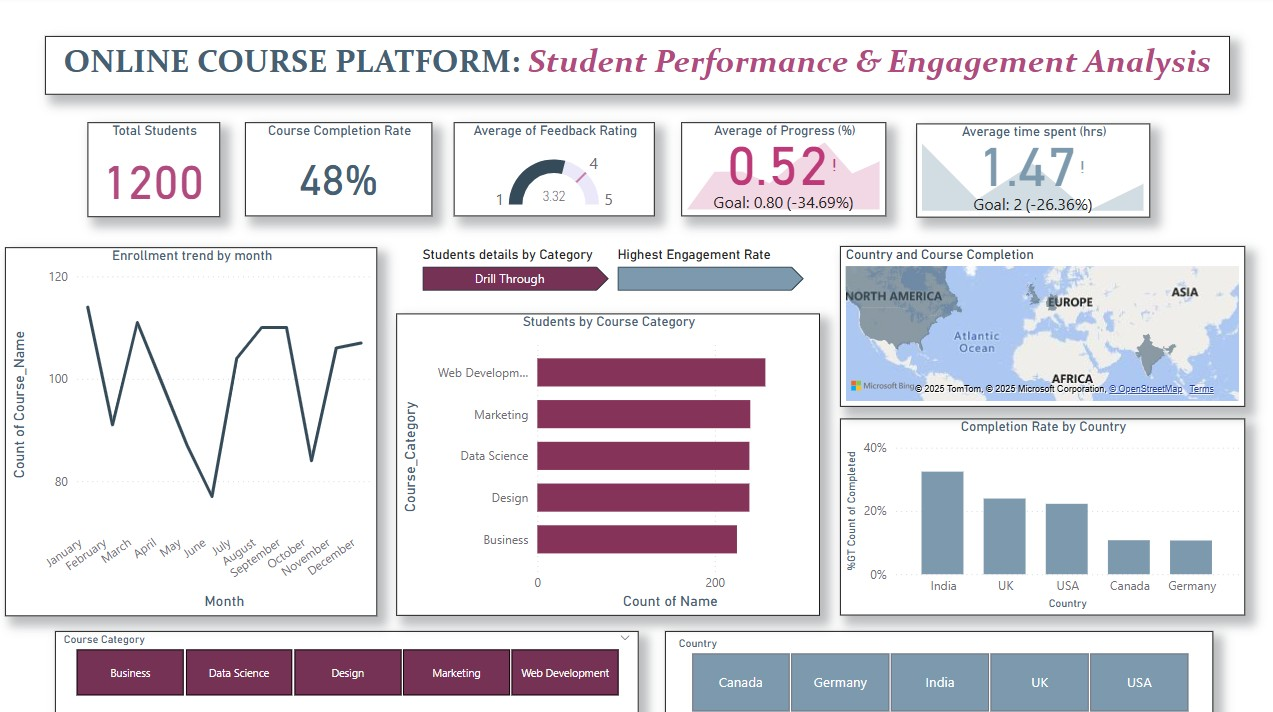

The dashboard page shown, as its layout file describes it:
{"tool":"powerbi","page":{"name":"Performance & Engagement Analysis ","canvas":[1280,720],"ordinal":0},"visuals":[{"type":"kpi","title":"Average of Progress (%) ","fields":{"Indicator":["Avg(Final Data.Progress (%))"],"TrendLine":["Final Data.Total Sessions"],"Goal":["Final Data.Progress Goal"]},"box":[682.9,125.6,204,93.3],"z":0},{"type":"card","title":"Total Students","fields":{"Values":["Final Data.Total Students"]},"box":[92.1,125.6,131.9,94.5],"z":1000},{"type":"textbox","box":[49.8,39.8,1179.3,58.5],"z":2000},{"type":"gauge","title":"Average of Feedback Rating","fields":{"Y":["Avg(Final Data.Feedback_Rating)"],"MaxValue":["Final Data.Max Feedback"],"MinValue":["Final Data.Min Feedback"],"TargetValue":["Final Data.Feedback Goal"]},"box":[456.5,125.6,200.3,93.3],"z":3000},{"type":"card","title":"Course Completion Rate","fields":{"Values":["Avg(Final Data.Course Completion )"]},"box":[248.8,125.6,186.6,93.3],"z":4000},{"type":"clusteredBarChart","title":"Students by Course Category","fields":{"Category":["Final Data.Course_Category Hierarchy.Course_Category","Final Data.Course_Category Hierarchy.Course_Name"],"Y":["CountNonNull(Final Data.Name)"]},"box":[399.3,316,421.7,301],"z":5000},{"type":"slicer","fields":{"Values":["Final Data.Course_Category"]},"box":[60.1,632.5,580.6,87.4],"z":6000},{"type":"clusteredColumnChart","title":"Completion Rate by Country","fields":{"Category":["Final Data.Country"],"Y":["CountNonNull(Final Data.Completed)"]},"box":[840.3,420.2,403.5,196.2],"z":7000},{"type":"slicer","fields":{"Values":["Final Data.Country"]},"box":[666.7,632.1,545.5,88],"z":8000},{"type":"lineChart","title":"Enrollment trend by month","fields":{"Category":["Final Data.Enrollment_Date.Variation.Date Hierarchy.Month"],"Y":["CountNonNull(Final Data.Course_Name)"]},"box":[10,250,370.7,367],"z":9000},{"type":"shape","title":"Students details by Category","box":[425.4,250,185.3,43.5],"z":10000},{"type":"kpi","title":"Average time spent (hrs)","fields":{"Indicator":["Final Data.Average time spent"],"Goal":["Final Data.Time Spent Goal"],"TrendLine":["Final Data.Course_Category"]},"box":[916.8,126.9,232.6,93.3],"z":11000},{"type":"filledMap","fields":{"Category":["Final Data.Country"],"Series":["Final Data.Course Completion "]},"box":[840.3,249,403.5,160],"z":12000},{"type":"shape","title":"Highest Engagement Rate","box":[619.5,250,185.3,43.5],"z":13000}]}

Visuals, with their boxes in screenshot pixels (x1, y1, x2, y2), scaled from the page's 1280x720 canvas onto the 1273x712 screenshot:
"Average of Progress (%) " kpi: locate(679, 124, 882, 216)
"Total Students" card: locate(92, 124, 223, 218)
textbox: locate(50, 39, 1222, 97)
"Average of Feedback Rating" gauge: locate(454, 124, 653, 216)
"Course Completion Rate" card: locate(247, 124, 433, 216)
"Students by Course Category" clusteredBarChart: locate(397, 312, 817, 610)
slicer - Final Data.Course_Category: locate(60, 625, 637, 711)
"Completion Rate by Country" clusteredColumnChart: locate(836, 416, 1237, 610)
slicer - Final Data.Country: locate(663, 625, 1206, 711)
"Enrollment trend by month" lineChart: locate(10, 247, 379, 610)
"Students details by Category" shape: locate(423, 247, 607, 290)
"Average time spent (hrs)" kpi: locate(912, 125, 1143, 218)
filledMap - Final Data.Country x Final Data.Course Completion : locate(836, 246, 1237, 404)
"Highest Engagement Rate" shape: locate(616, 247, 800, 290)
